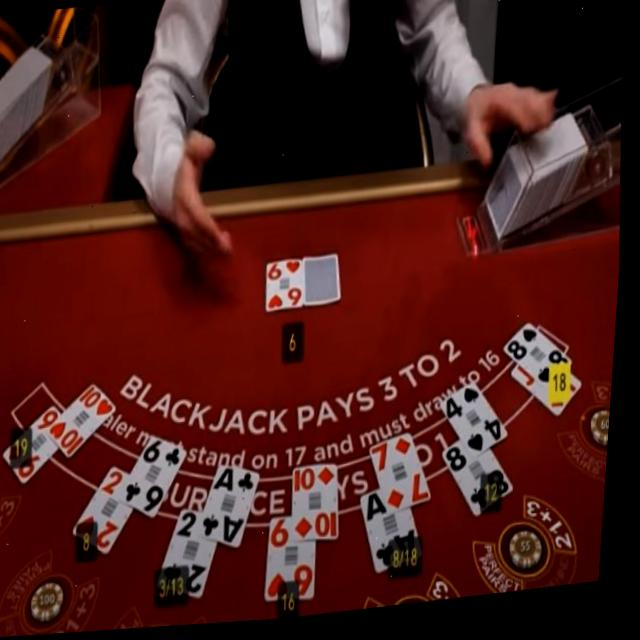Card-10: (54, 384, 122, 462), (301, 469, 347, 546)
Card-2: (165, 511, 225, 603), (80, 466, 140, 557)
Card-4: (446, 387, 514, 465)
Card-6: (124, 436, 194, 520), (274, 519, 324, 605), (270, 261, 308, 315)
Card-7: (376, 438, 438, 519)
Card-8: (449, 448, 520, 525), (509, 330, 578, 396)
Card-9: (10, 405, 66, 485)
Card-A: (368, 493, 430, 580), (207, 468, 267, 551)
Card-J: (517, 372, 588, 426)
